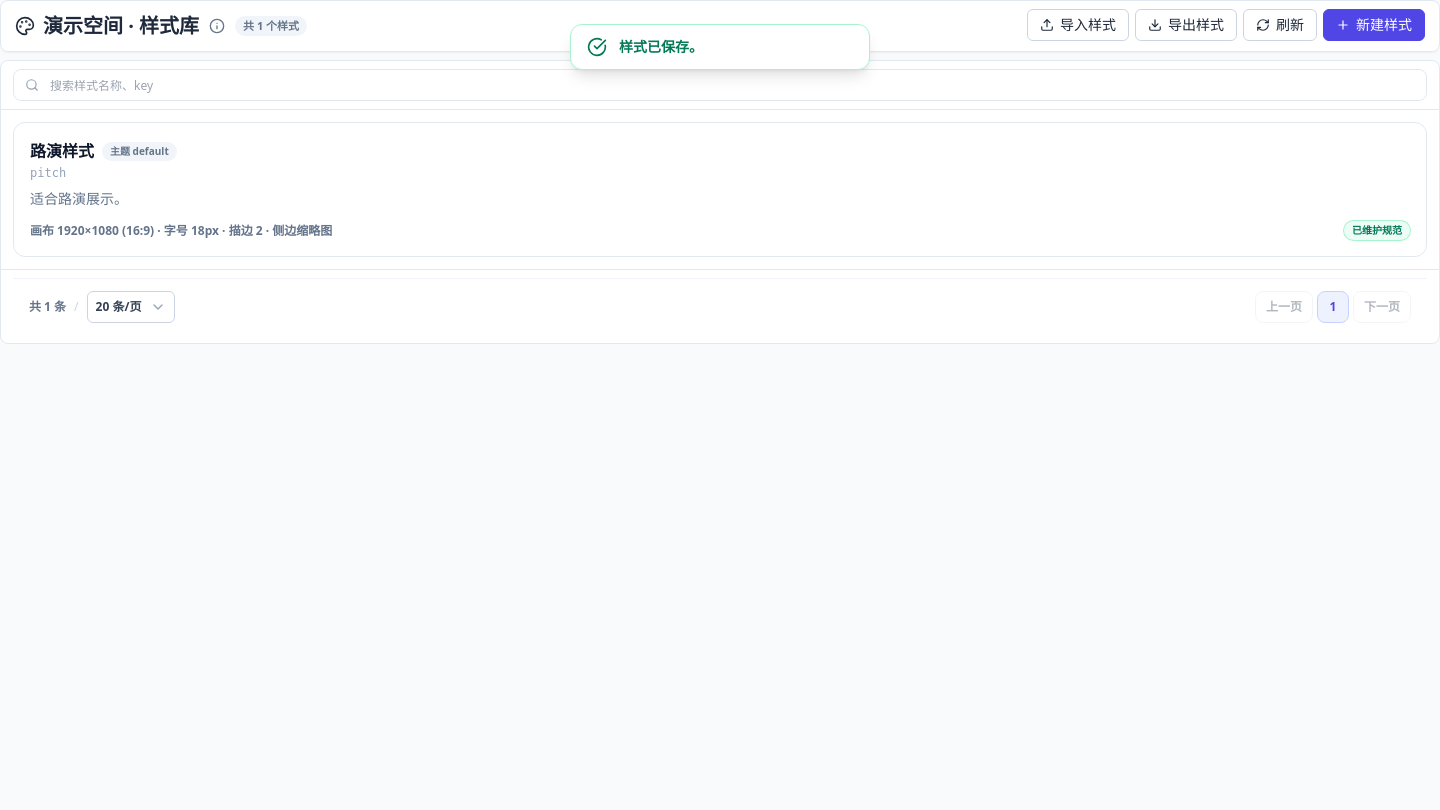
Scenario: WorkspaceStylesView › 选择模式下勾选样式并确认后应导出离线包
Expected: the heading "路演样式" is shown, [30,139,94,163]
Click the button "导出样式" at [1186, 25], box [1135,9,1237,41]
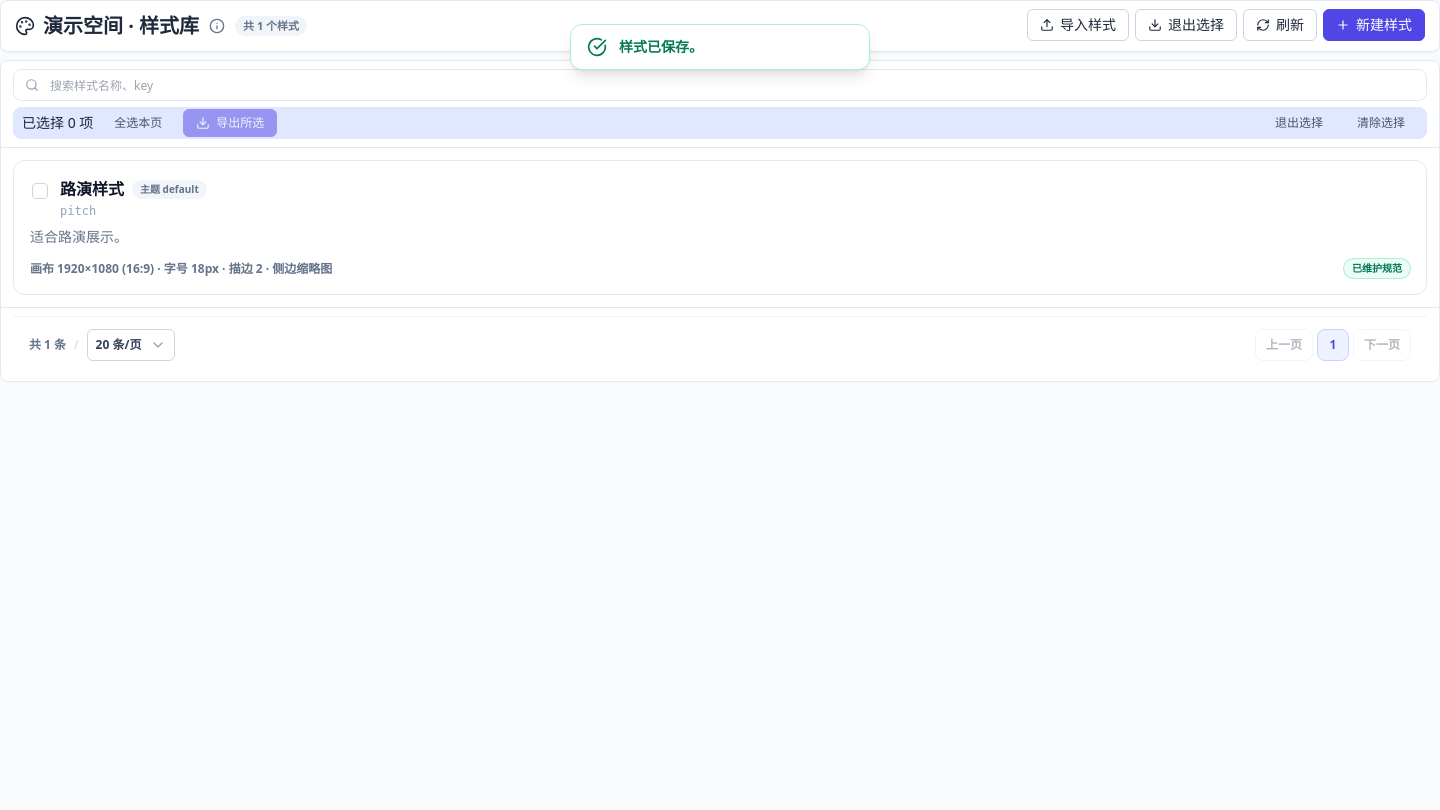
Expected: the button "导出所选" is disabled, [183,109,277,137]
Click the checkbox named "选择导出 路演样式" at [40, 191], box [32,183,48,199]
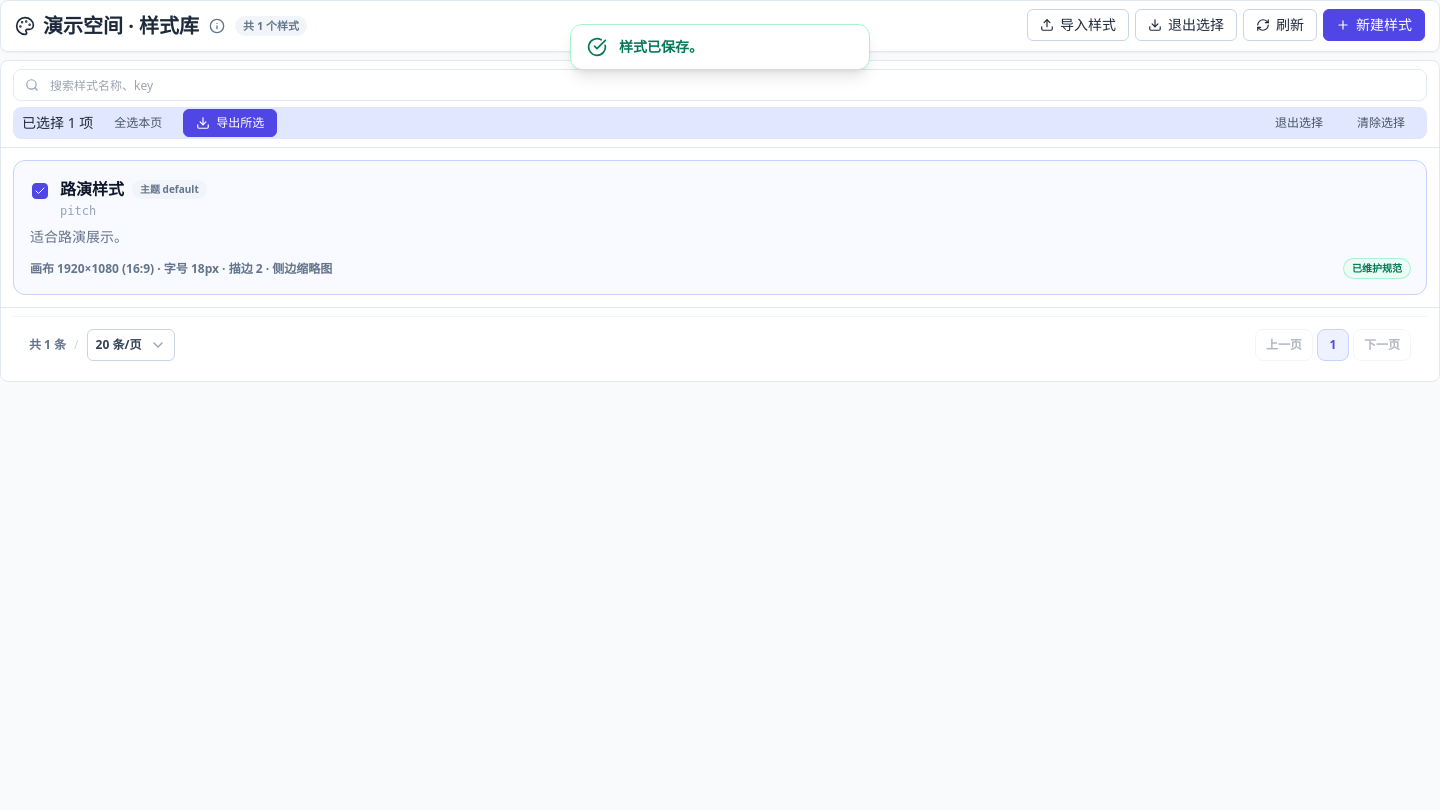
Expected: the button "导出所选" is enabled
Click the button "导出所选" at [230, 123], box [183,109,277,137]
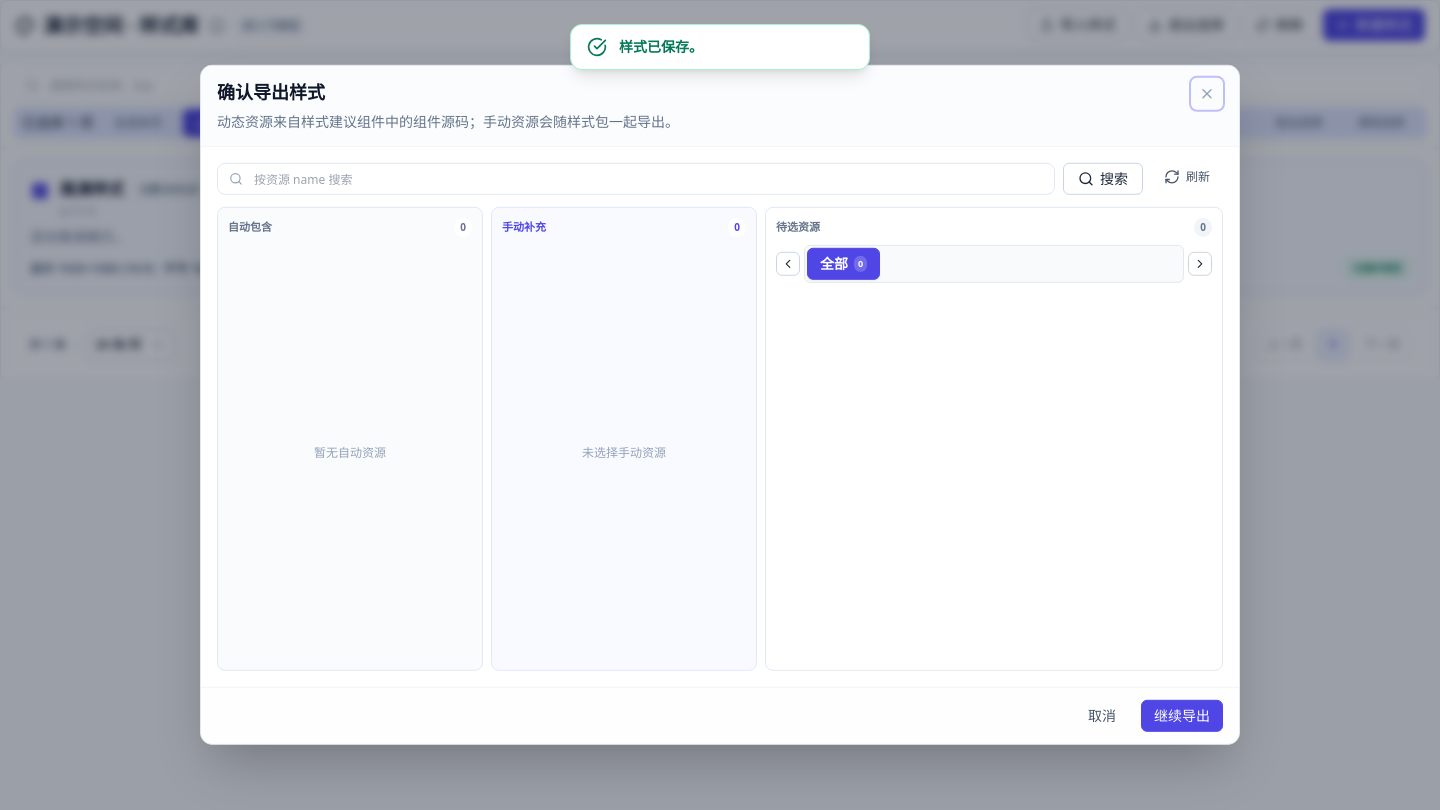
Click the button "继续导出" at [1182, 716], box [1141,700,1223,732]
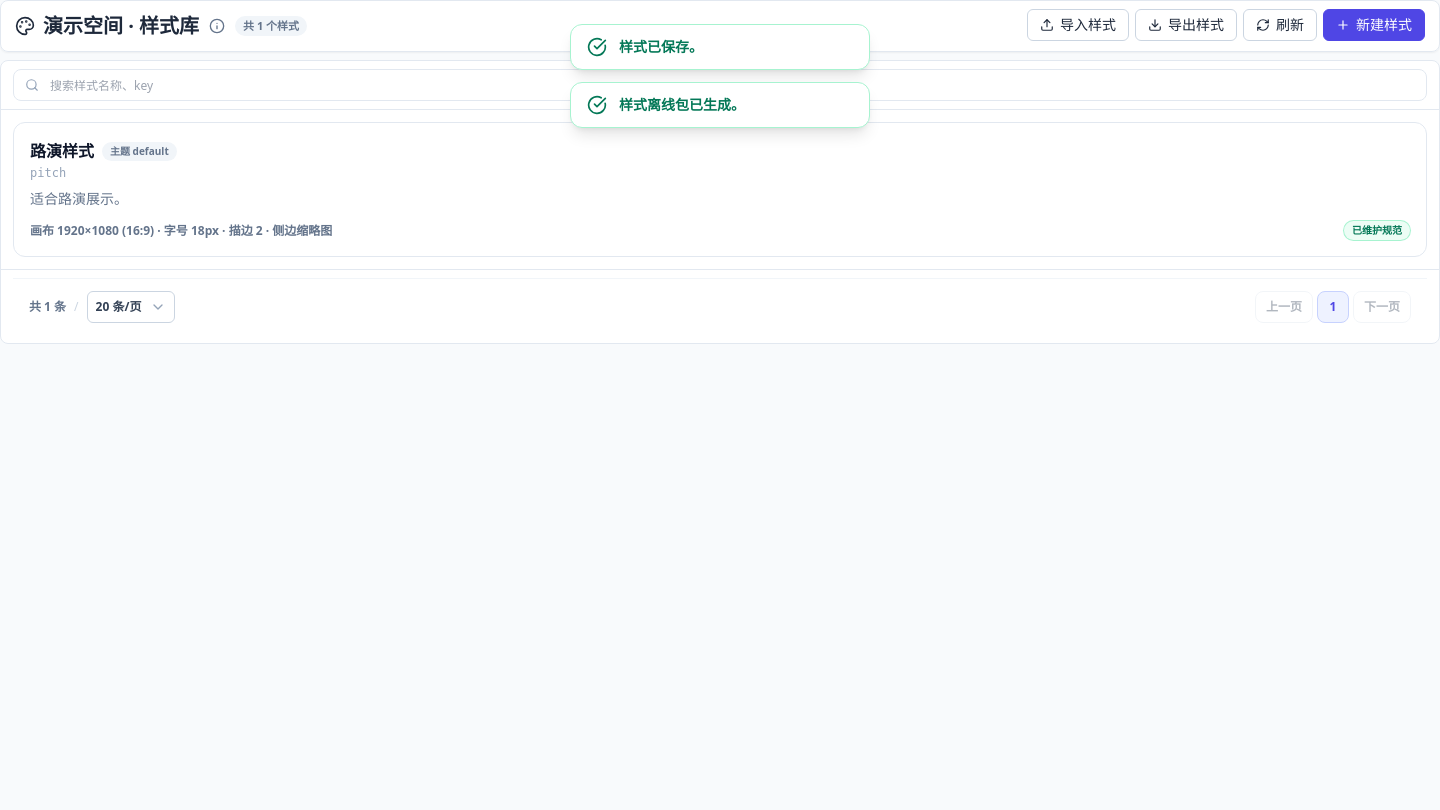
Expected: the button "导出样式" is shown, [1135,9,1237,41]
